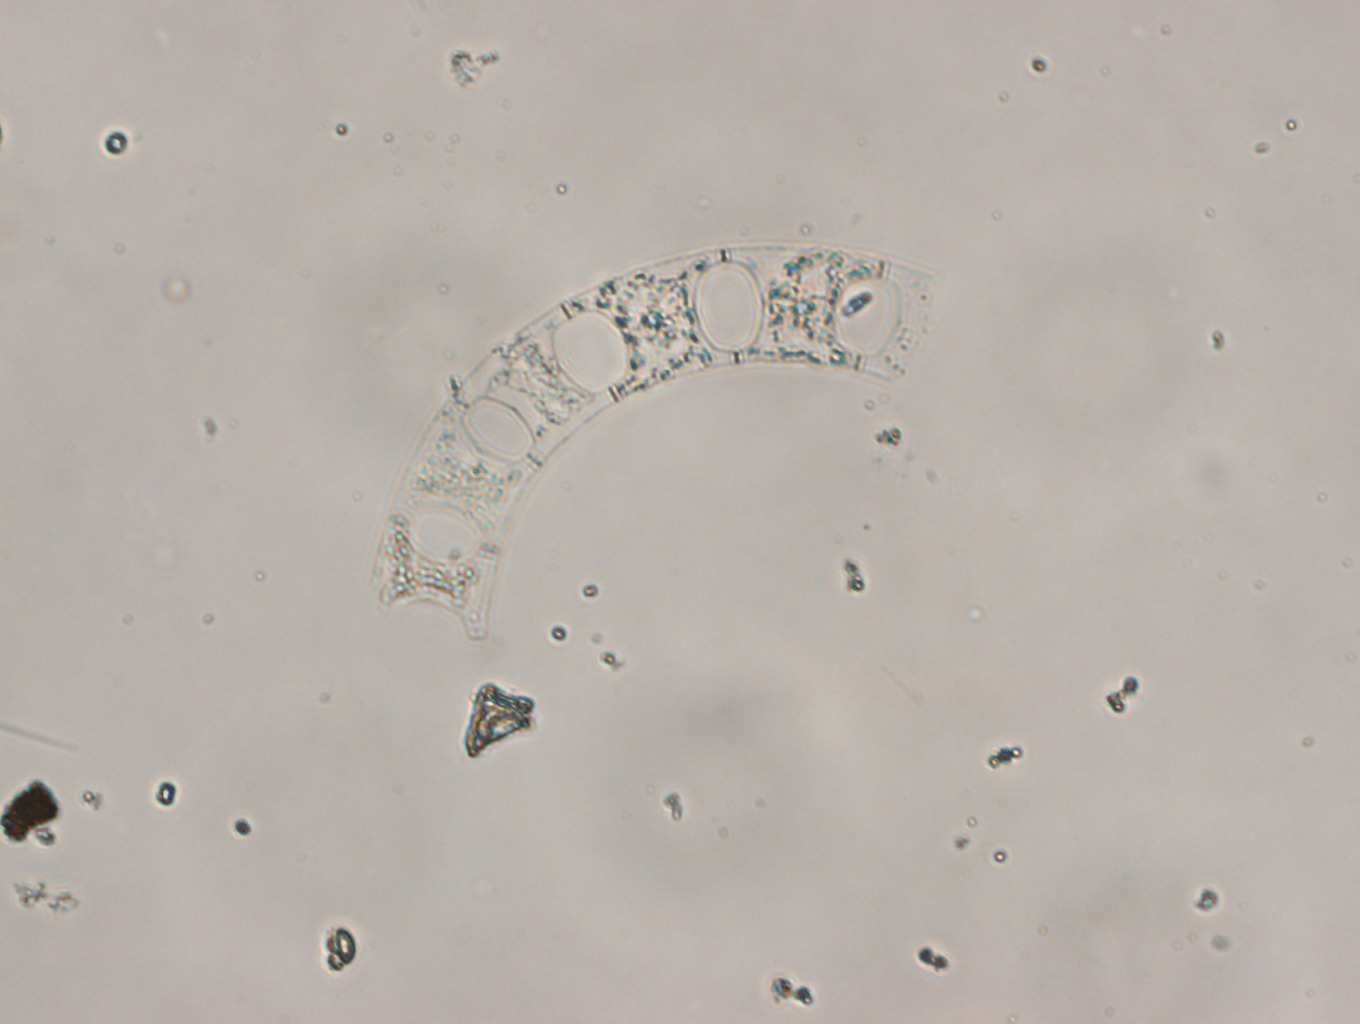eucampia: (369, 234, 943, 644)
